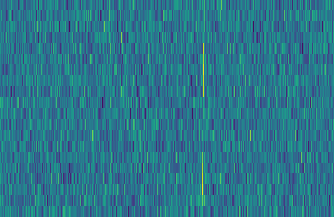signal: (197, 0, 209, 217)
